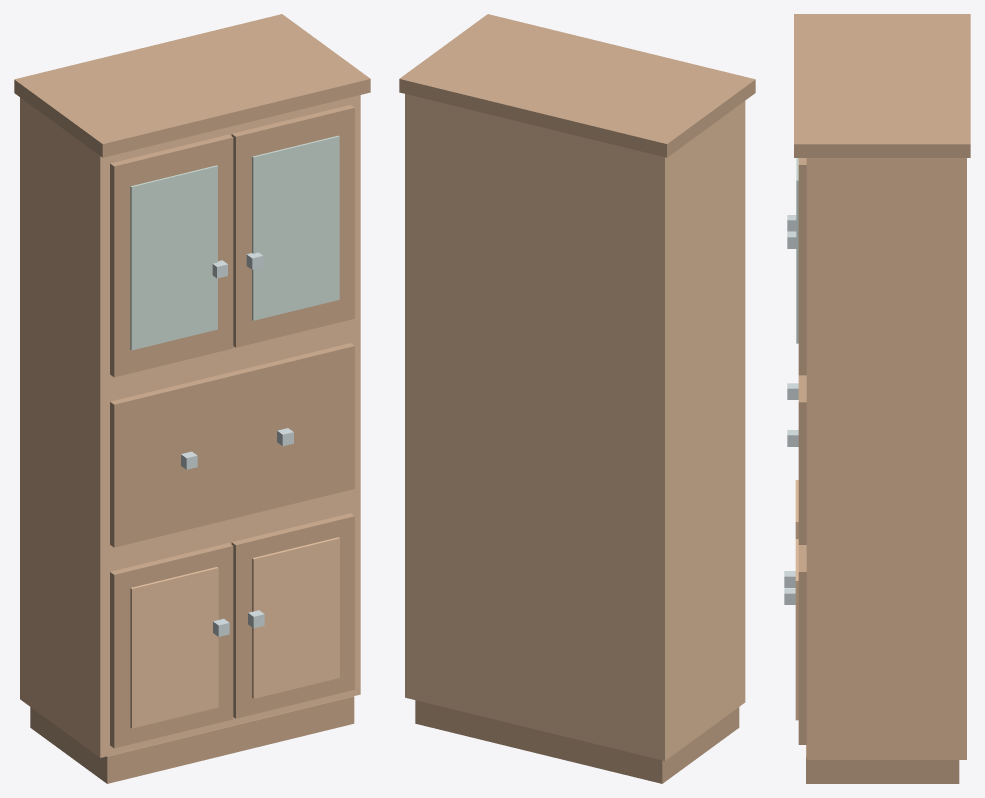
File: larderCupboard.glb
The picture shows the model from 3 angles, left to right: view 1: azimuth 30°, elevation 25°; view 2: azimuth 150°, elevation 25°; view 3: azimuth 270°, elevation 25°; orthographic projection.
Visible parts, largest first — view 1: larderCupboard; view 2: larderCupboard; view 3: larderCupboard.
Boxes of the visible parts, x1=… form: larderCupboard: x1=14, y1=14, x2=370, y2=783; larderCupboard: x1=399, y1=14, x2=755, y2=783; larderCupboard: x1=784, y1=14, x2=970, y2=783.
Size of the model in its own units: 0.412 by 0.95 by 0.249.
